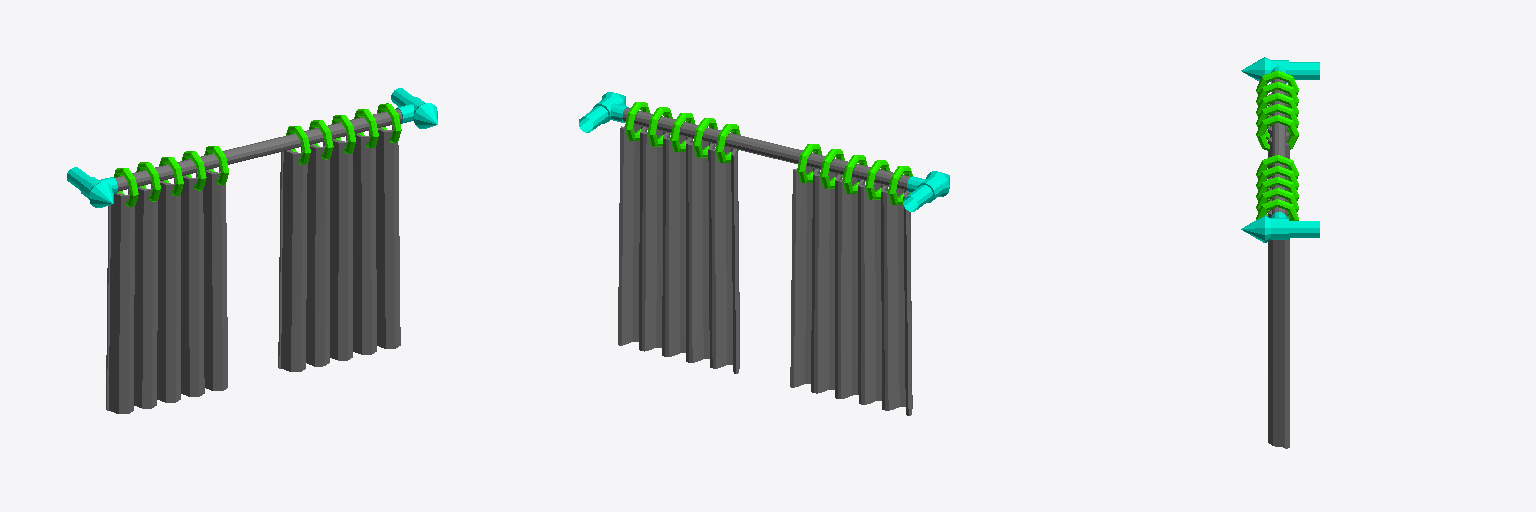
3 views of the same model, side by side, from view 1: azimuth 30°, elevation 25°; view 2: azimuth 150°, elevation 25°; view 3: azimuth 270°, elevation 25° (orthographic).
Visible parts, largest first — view 1: Curtain; view 2: Curtain; view 3: Curtain.
Part boxes in pixels (left/top/right/bottom): Curtain: left=67, top=88, right=437, bottom=413; Curtain: left=579, top=92, right=949, bottom=415; Curtain: left=1241, top=57, right=1319, bottom=448.
Size of the model in its own units: 103 by 68.61 by 20.26.
1 materials, 1 textured.